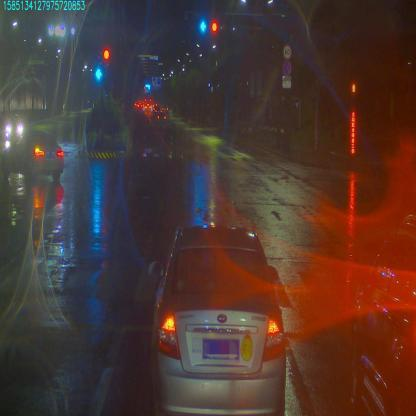traffic-light: (212, 22, 219, 36), (199, 20, 208, 30)
